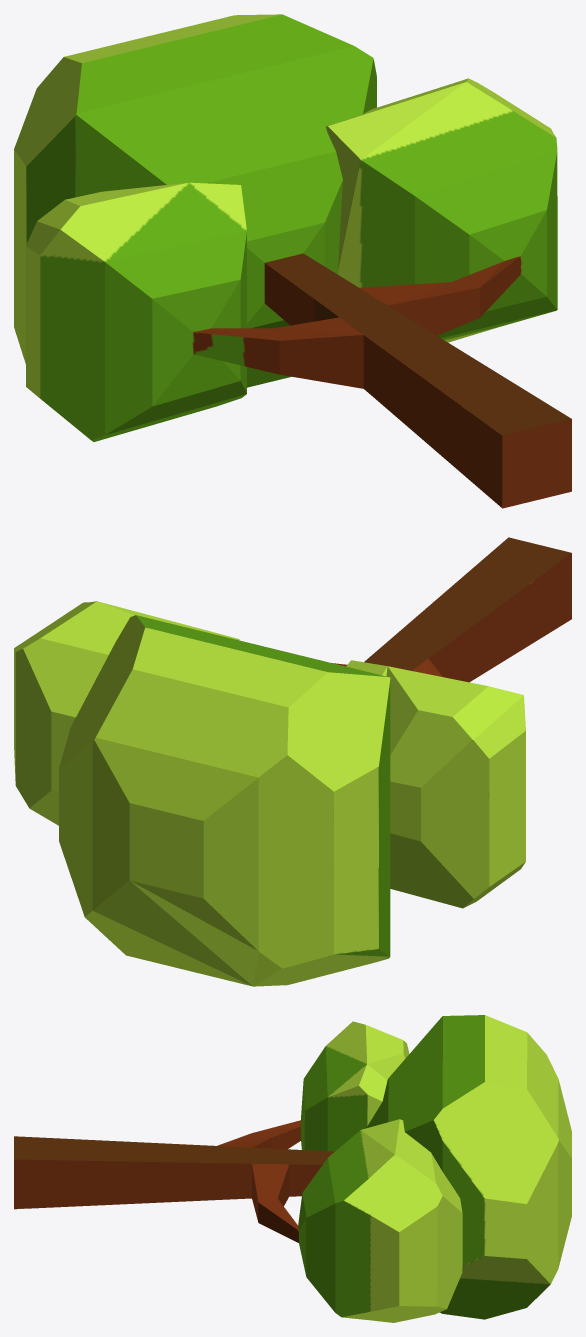
Rendered from tree-04.obj.
3 views of the same model, one above another, from view 1: azimuth 30°, elevation 25°; view 2: azimuth 150°, elevation 25°; view 3: azimuth 270°, elevation 25° (orthographic). The views are drawn at different scales.
Visible parts, largest first — view 1: tree-04_Cube.039; view 2: tree-04_Cube.039; view 3: tree-04_Cube.039.
Part boxes in pixels (<box>): tree-04_Cube.039: <box>14,14,571,508</box>; tree-04_Cube.039: <box>14,537,571,986</box>; tree-04_Cube.039: <box>14,1015,571,1322</box>.
Bounding box in the file's own units: 7.85 × 4.95 × 10.33.
